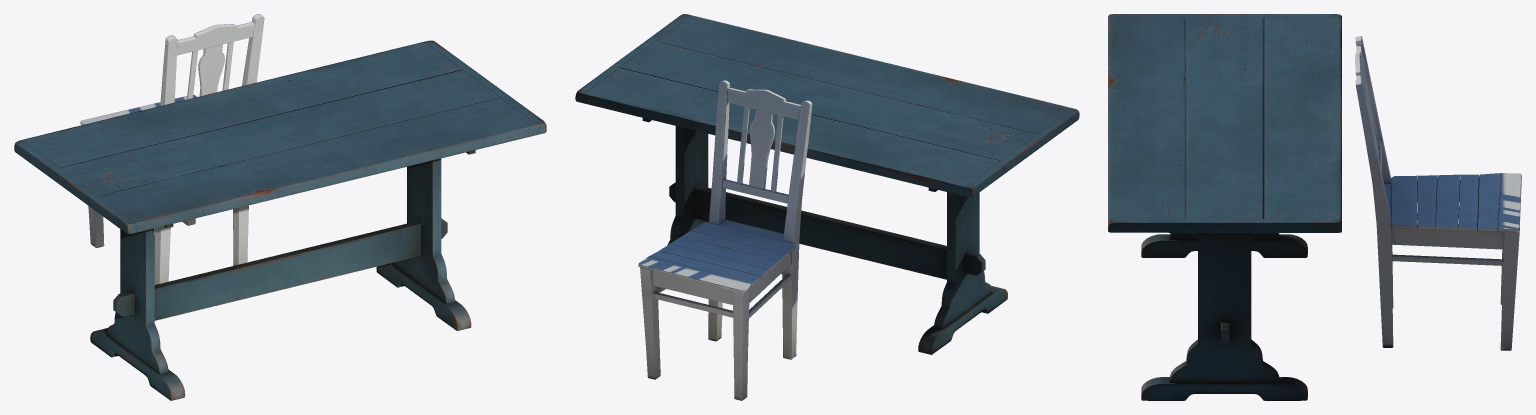
File: table.glb
3 renders of one model, left to right at view 1: azimuth 30°, elevation 25°; view 2: azimuth 150°, elevation 25°; view 3: azimuth 270°, elevation 25°, orthographic. The views are drawn at different scales.
Bounding box in the file's own units: 28 × 16.74 × 23.4.
Materials: 1 (1 with a texture image).
